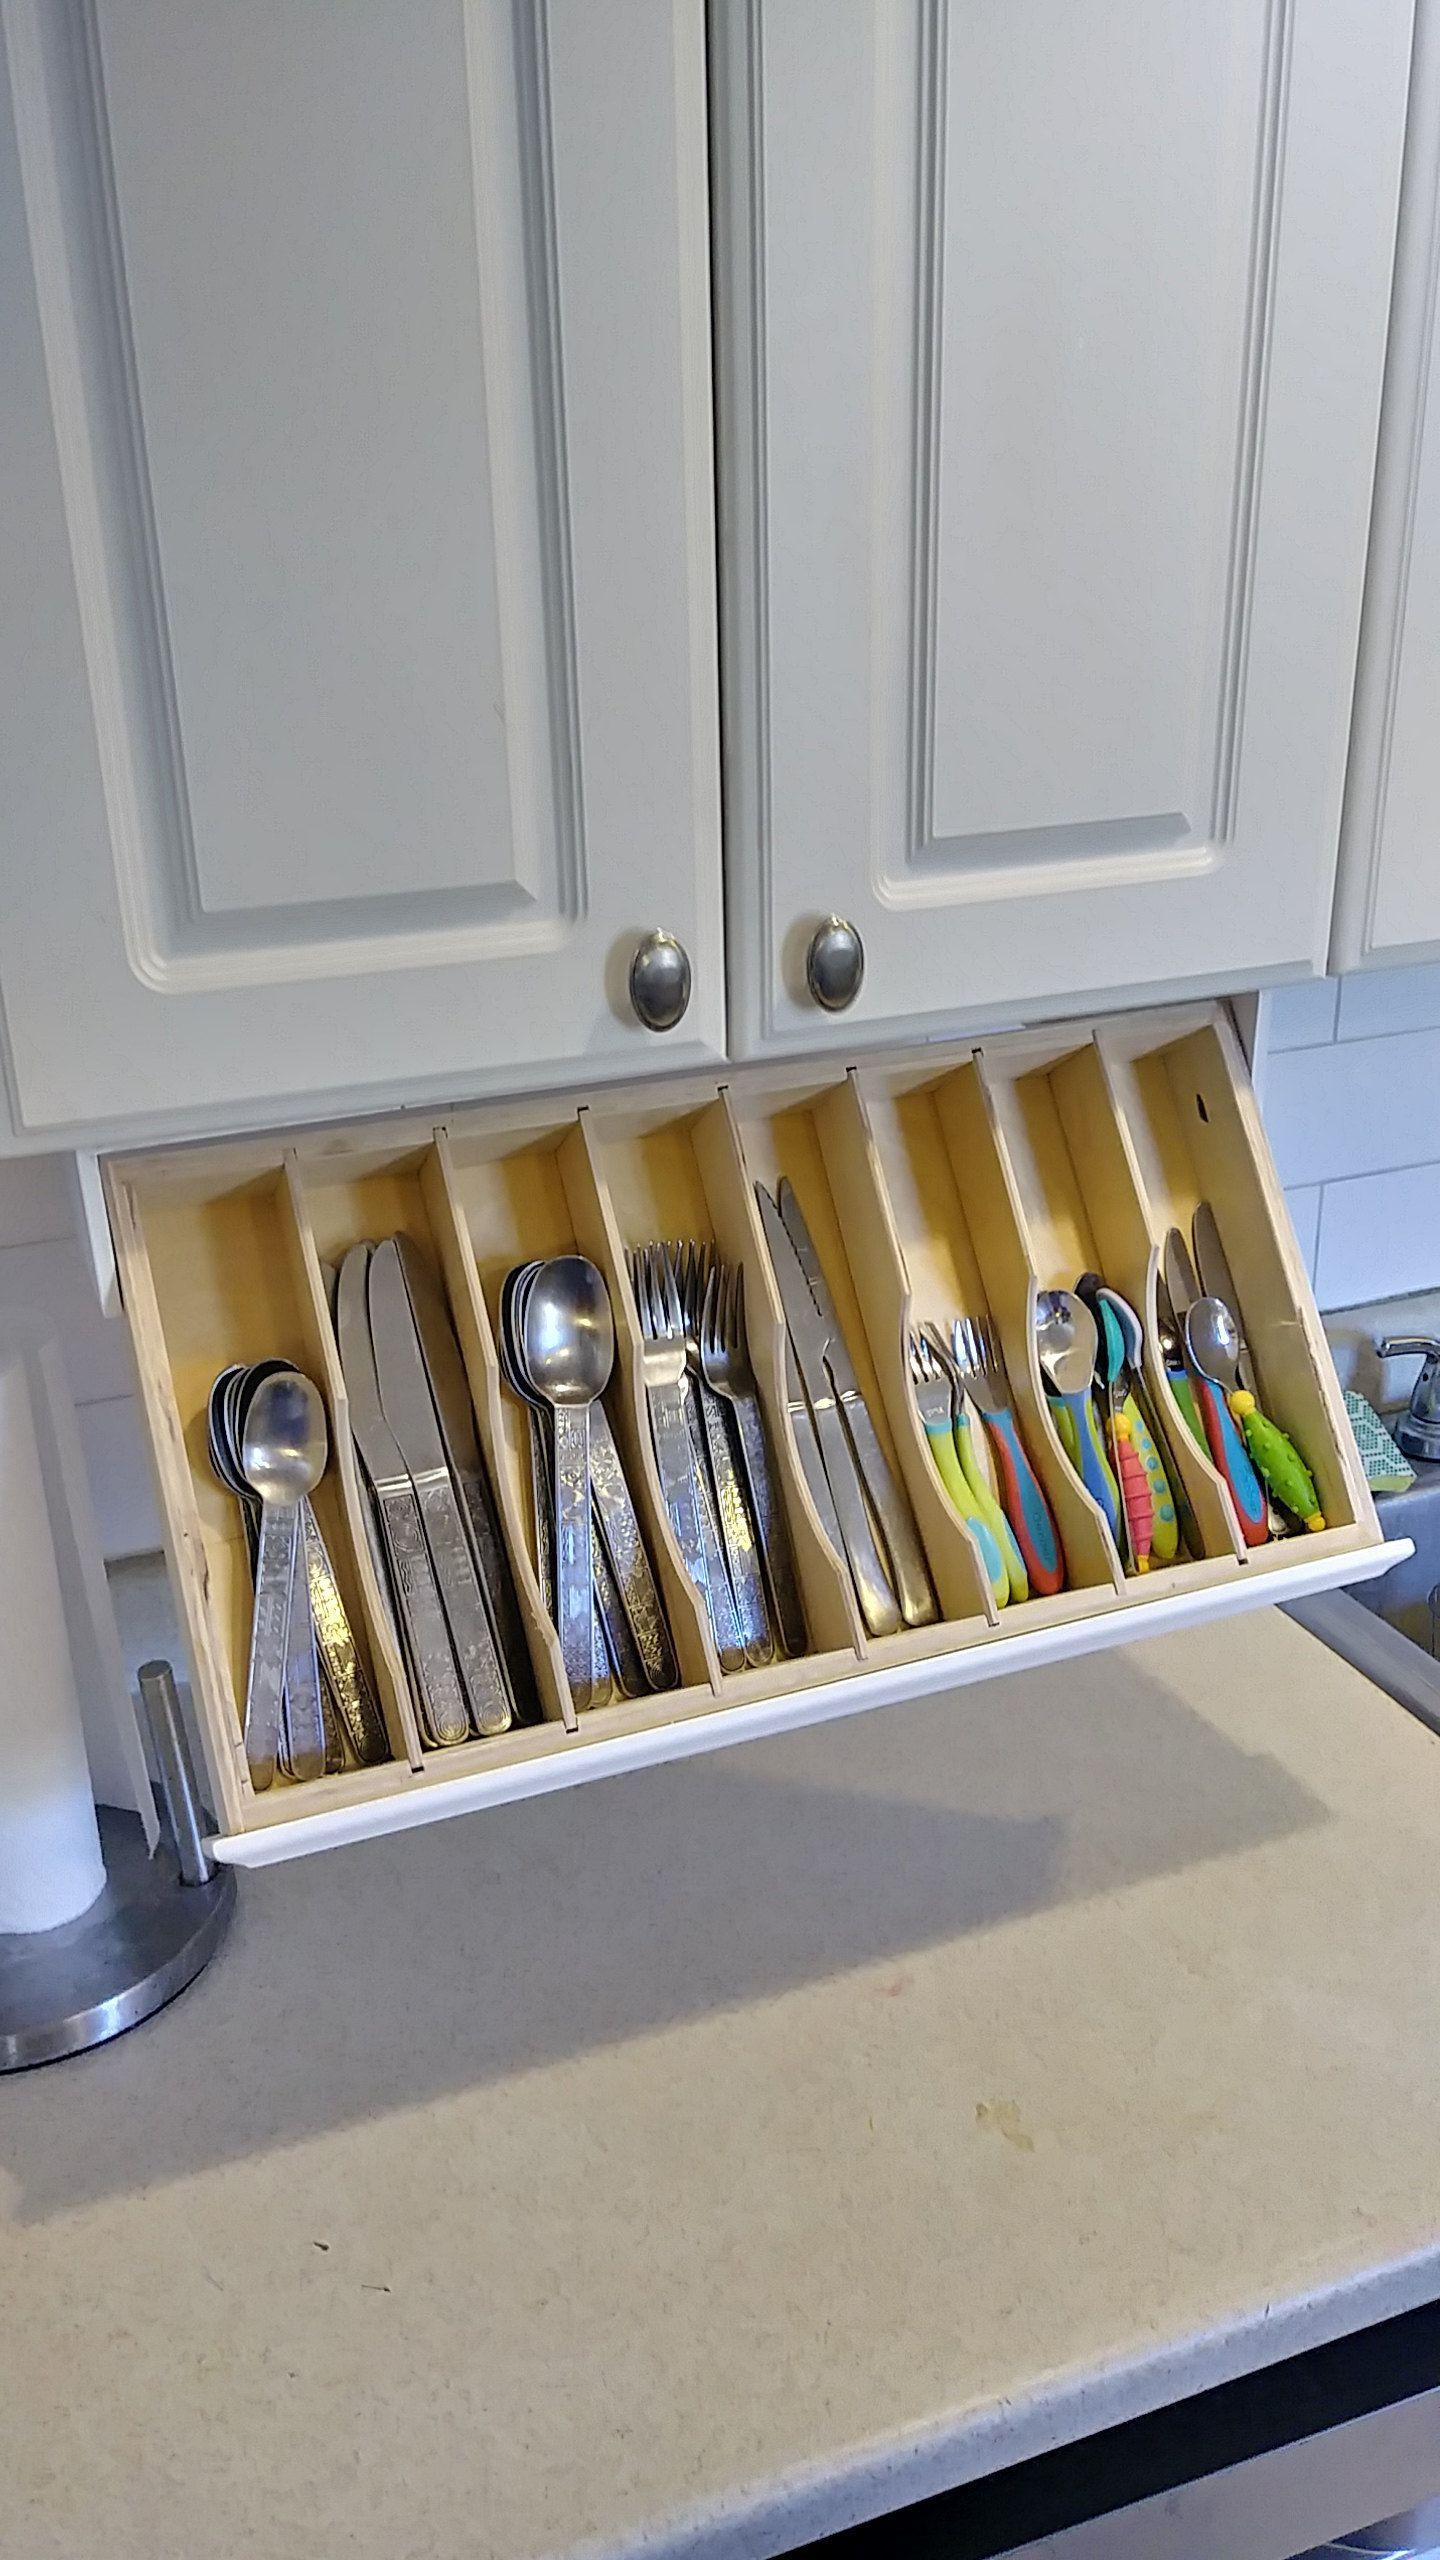cabinet_door: (0, 4, 723, 1101), (735, 0, 1440, 1016)
handle: (789, 897, 881, 1027), (617, 911, 696, 1046)
